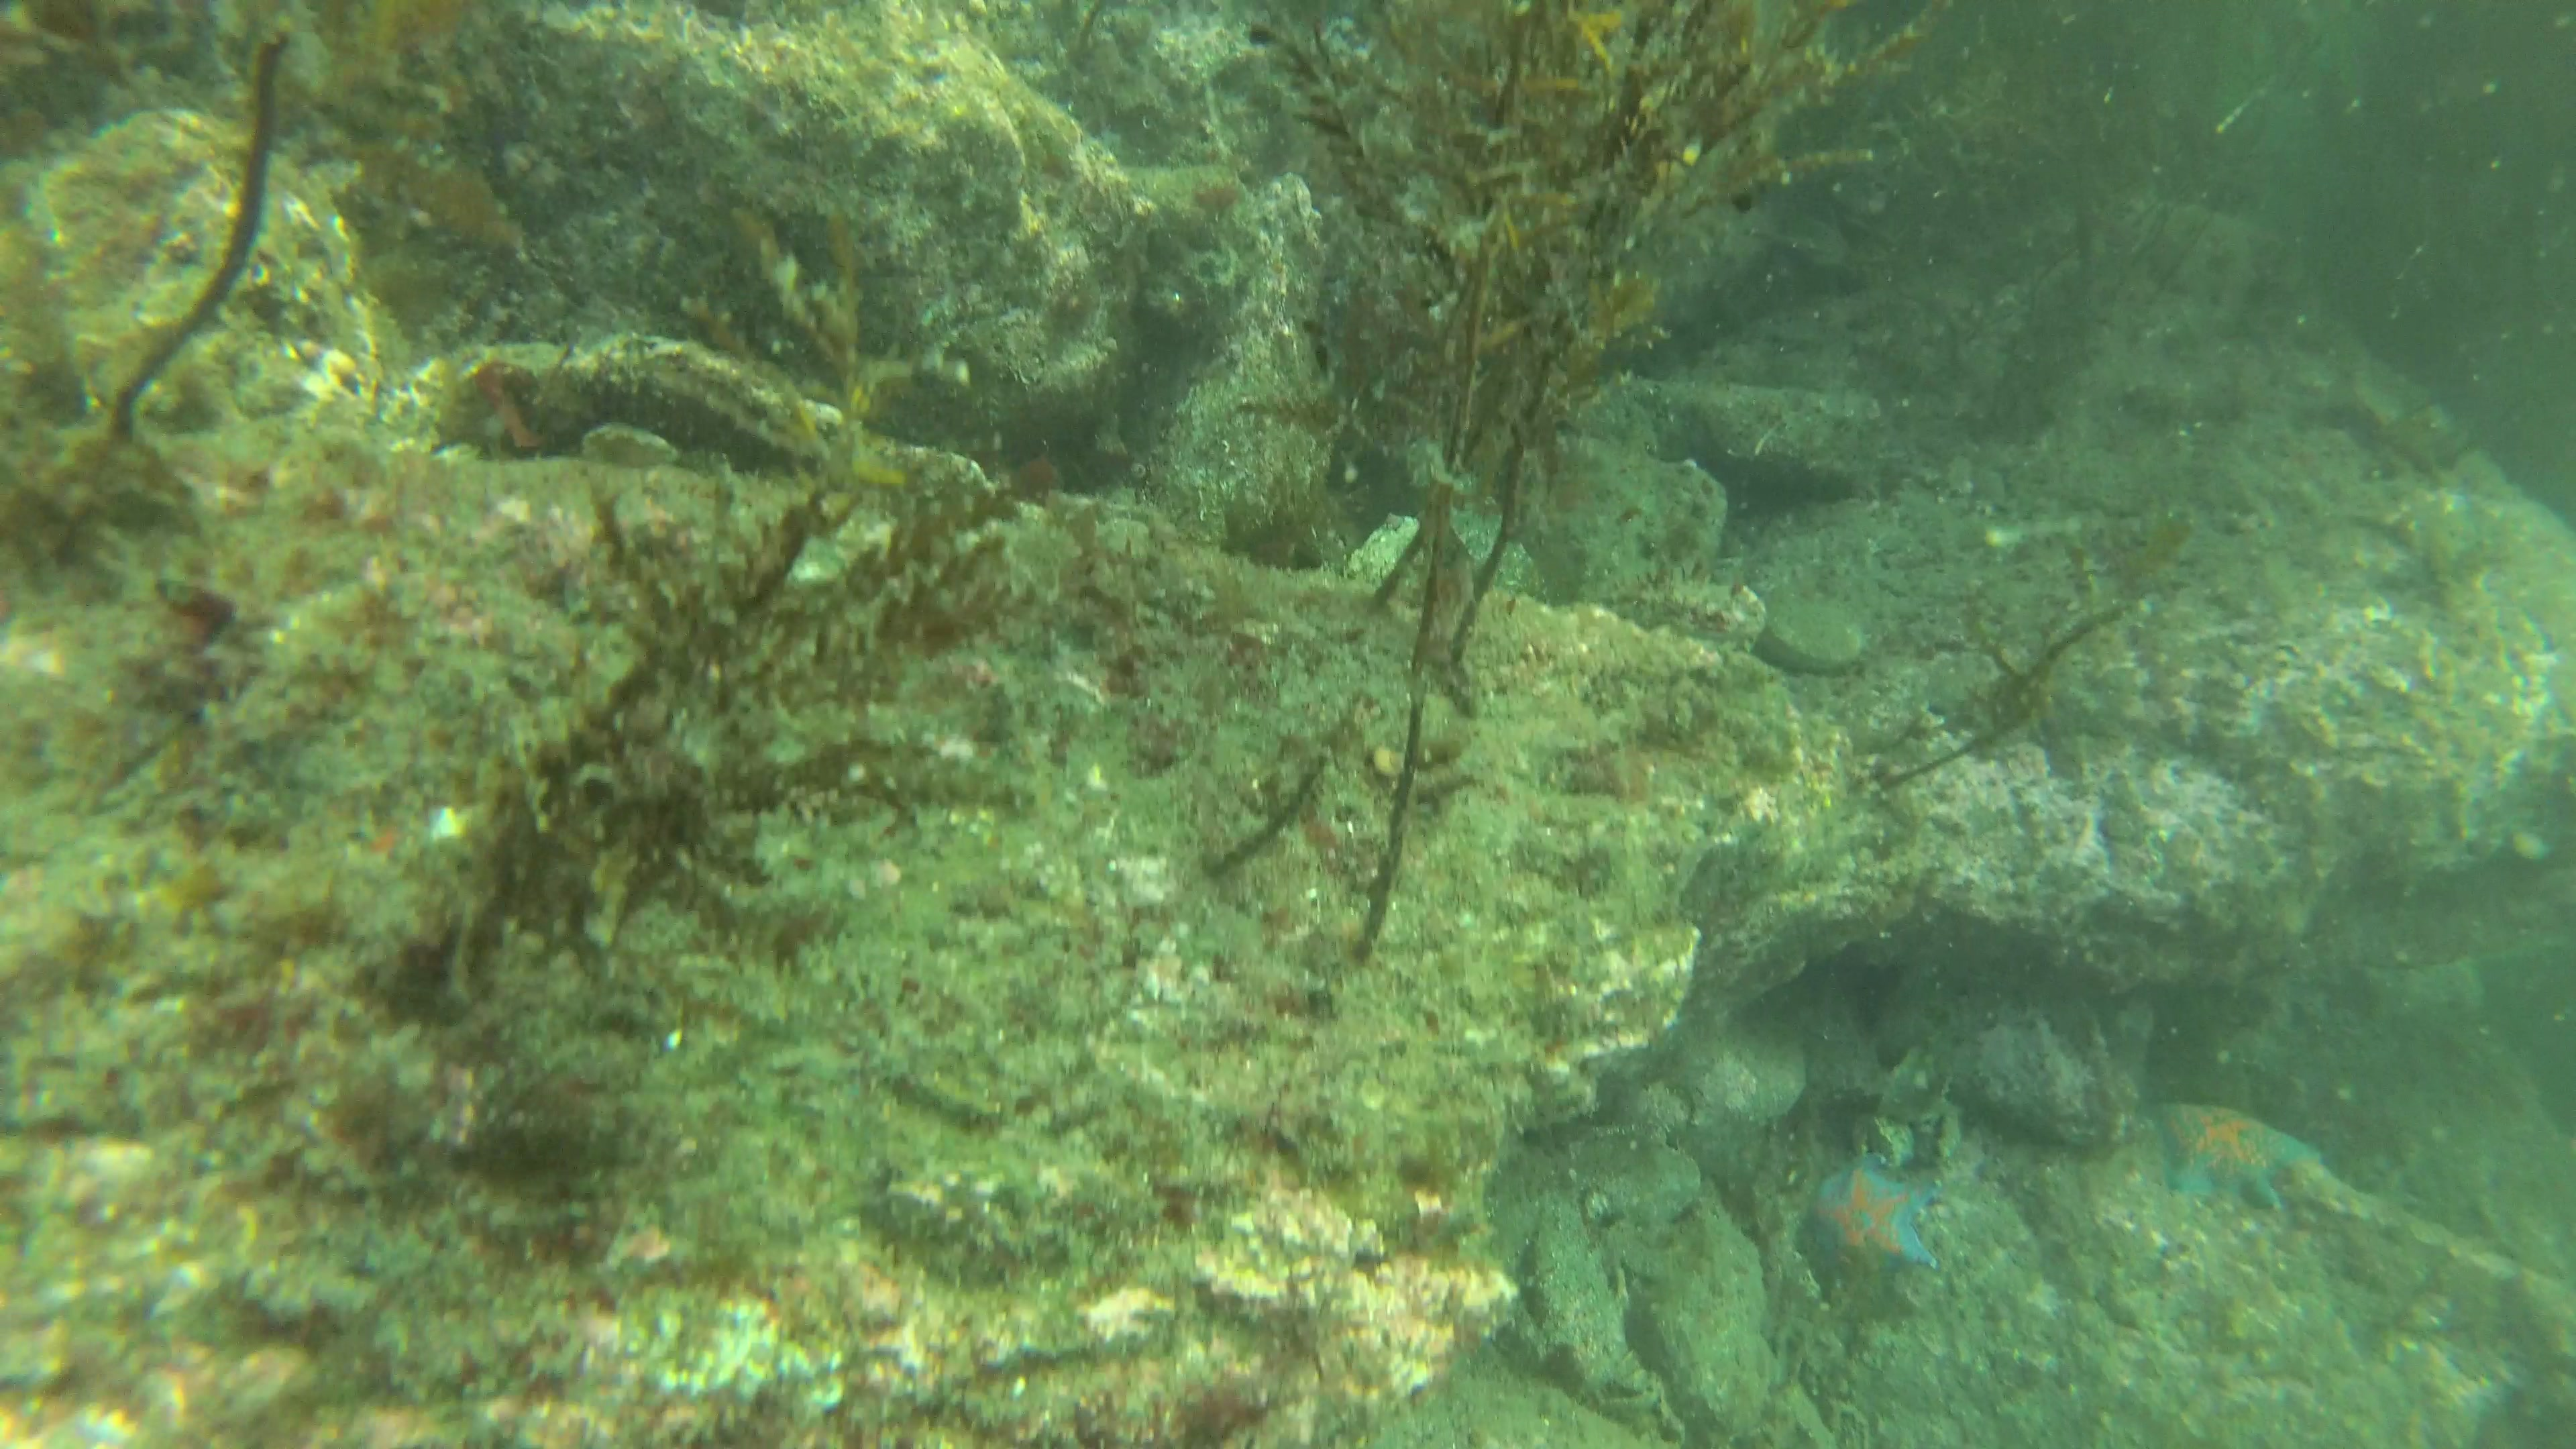starfish: (1792, 1161, 1944, 1292), (2144, 1097, 2330, 1201)
